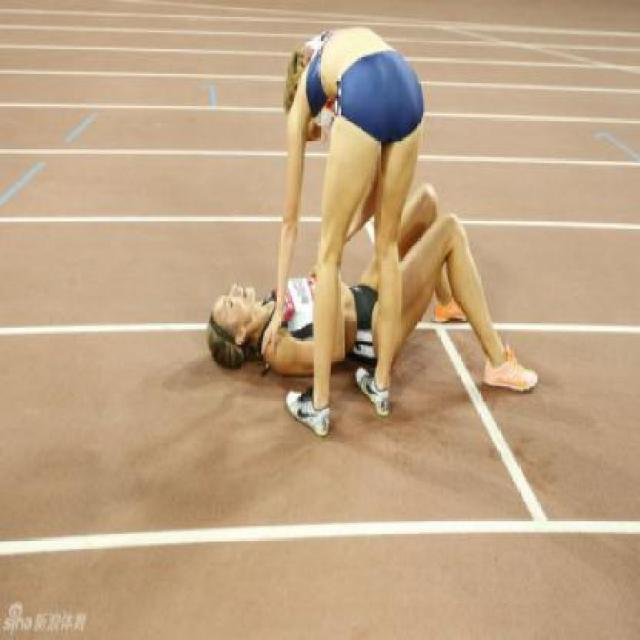fall: (208, 182, 543, 402)
